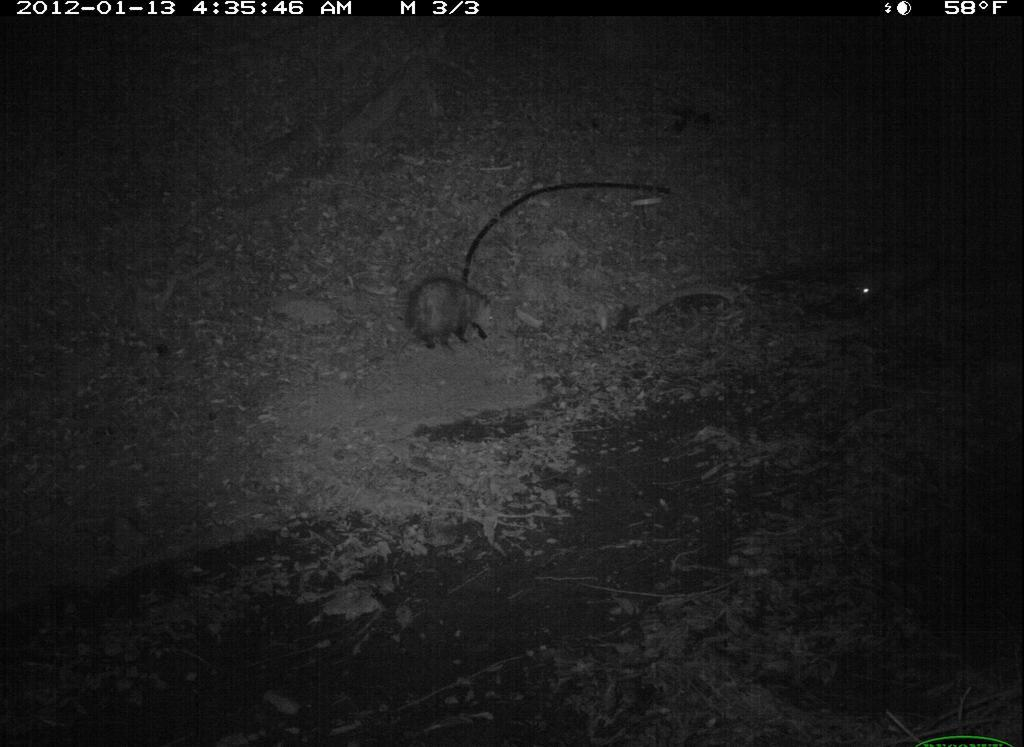opossum: (395, 269, 510, 359)
